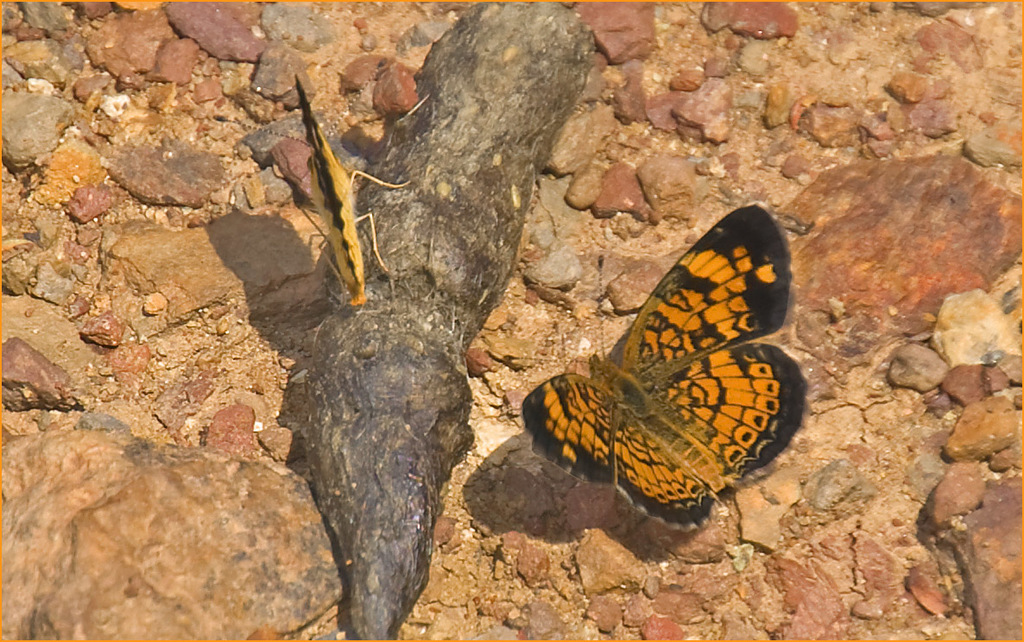Butterfly: (491, 196, 823, 539)
